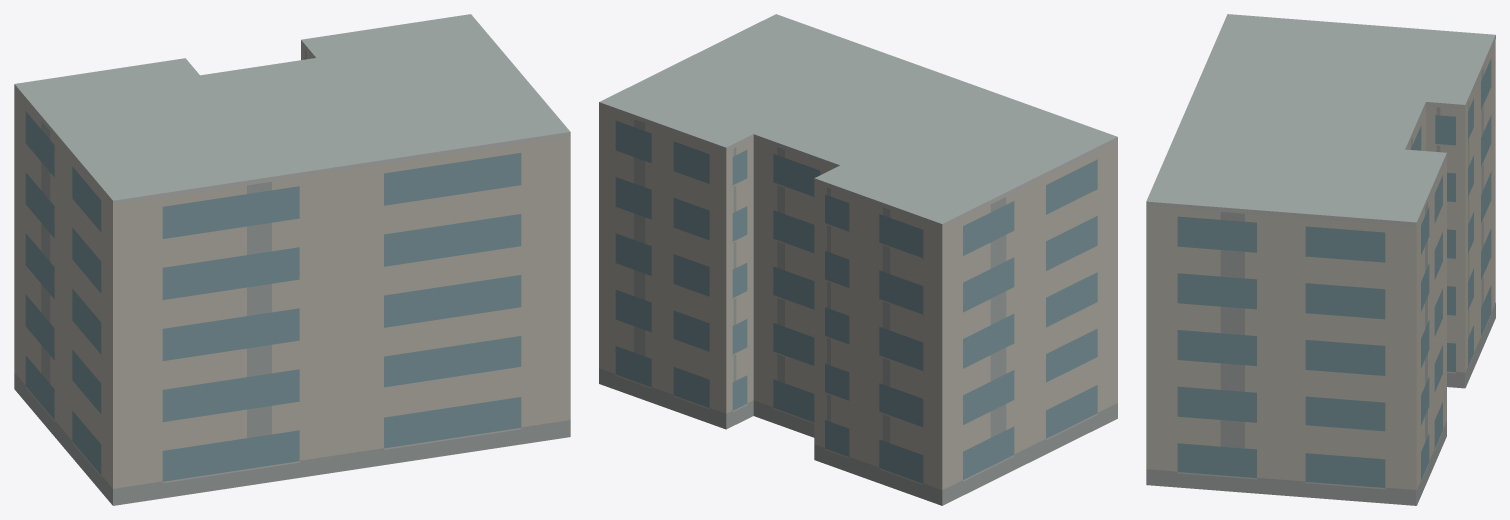
Rendered from residential-19822dd7-7f8a-486e-8436-3b97b30838f3.glb.
The picture shows the model from 3 angles, left to right: view 1: azimuth 30°, elevation 25°; view 2: azimuth 150°, elevation 25°; view 3: azimuth 270°, elevation 25°; orthographic projection. The views are drawn at different scales.
Visible parts, largest first — view 1: residential-19822dd7-7f8a-486e-8436-3b97b30838f3.tmp; view 2: residential-19822dd7-7f8a-486e-8436-3b97b30838f3.tmp; view 3: residential-19822dd7-7f8a-486e-8436-3b97b30838f3.tmp.
Part boxes in pixels (x1=…): residential-19822dd7-7f8a-486e-8436-3b97b30838f3.tmp: x1=14, y1=14, x2=570, y2=505; residential-19822dd7-7f8a-486e-8436-3b97b30838f3.tmp: x1=599, y1=14, x2=1117, y2=505; residential-19822dd7-7f8a-486e-8436-3b97b30838f3.tmp: x1=1146, y1=14, x2=1495, y2=505.
Size of the model in its own units: 24.06 by 15.25 by 17.05.
